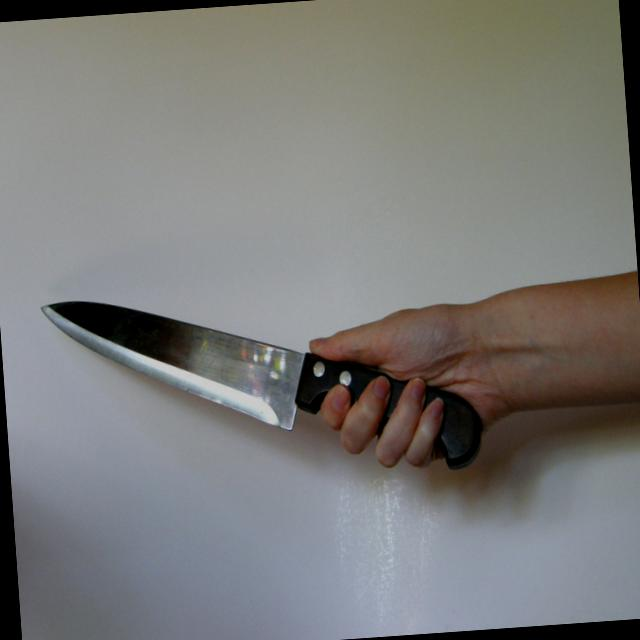knife: (31, 264, 375, 450)
